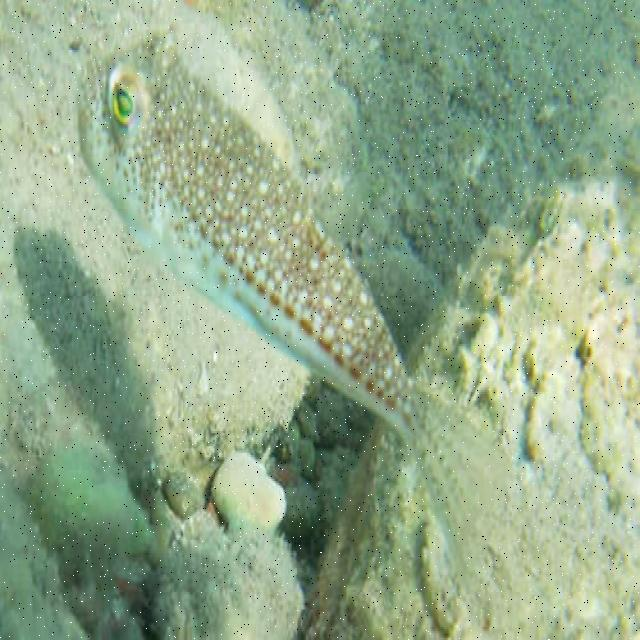Balik: (80, 40, 414, 435)
